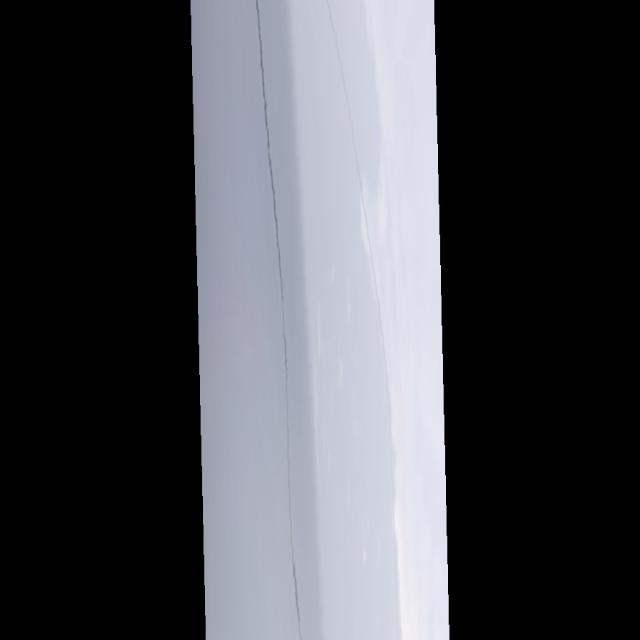crack: (243, 26, 303, 640)
